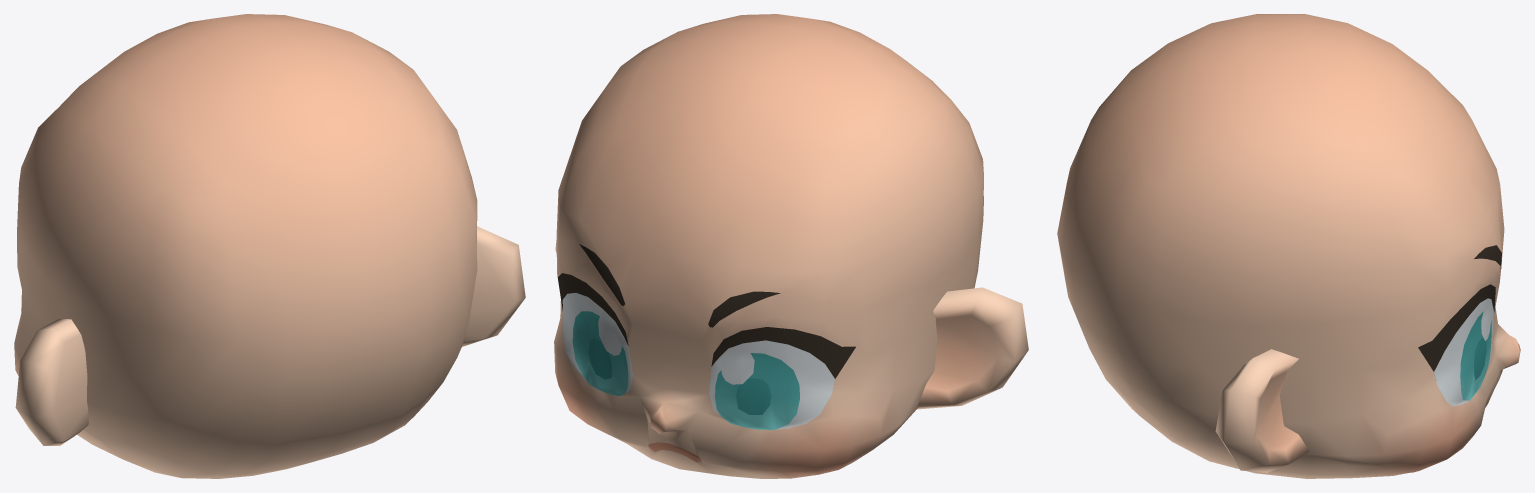
Rendered from FaceFemale_2.fbx.
3 views of the same model, side by side, from view 1: azimuth 30°, elevation 25°; view 2: azimuth 150°, elevation 25°; view 3: azimuth 270°, elevation 25° (orthographic). The views are drawn at different scales.
Visible parts, largest first — view 1: FaceFemale_2; view 2: FaceFemale_2; view 3: FaceFemale_2.
Part boxes in pixels (x1,y1,x2,y2): FaceFemale_2: (14, 14, 525, 478); FaceFemale_2: (554, 14, 1028, 478); FaceFemale_2: (1057, 14, 1520, 478).
Bounding box in the file's own units: 81.66 × 66.4 × 68.58.
